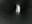person: (16, 5, 22, 17)
